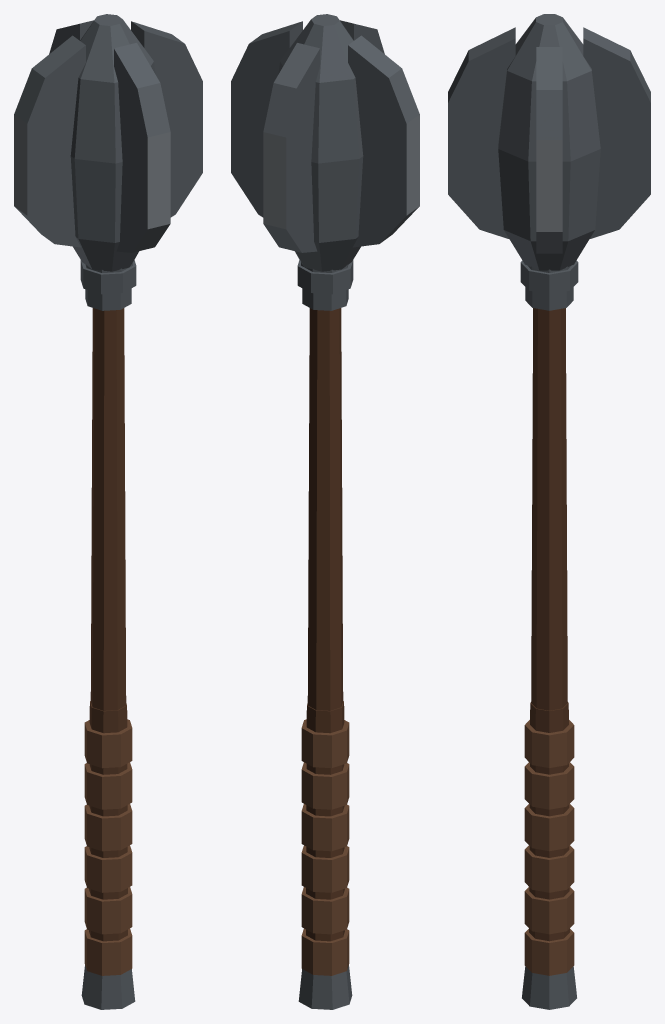
Rendered from WP_Mace_10.glb.
3 renders of one model, left to right at view 1: azimuth 30°, elevation 25°; view 2: azimuth 150°, elevation 25°; view 3: azimuth 270°, elevation 25°, orthographic.
Parts seen in each view (by area): view 1: WP_Mace_10; view 2: WP_Mace_10; view 3: WP_Mace_10.
Part boxes in pixels (x1=…): WP_Mace_10: x1=14, y1=14, x2=202, y2=1009; WP_Mace_10: x1=231, y1=14, x2=419, y2=1009; WP_Mace_10: x1=448, y1=14, x2=650, y2=1009.
Bounding box in the file's own units: 0.168 × 0.895 × 0.168.
